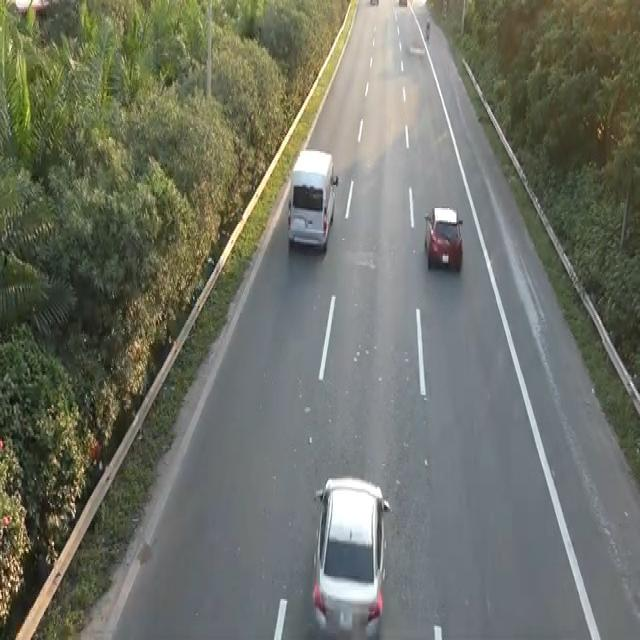bus: (309, 471, 391, 635), (422, 203, 464, 272)
jeep: (285, 146, 339, 252)
